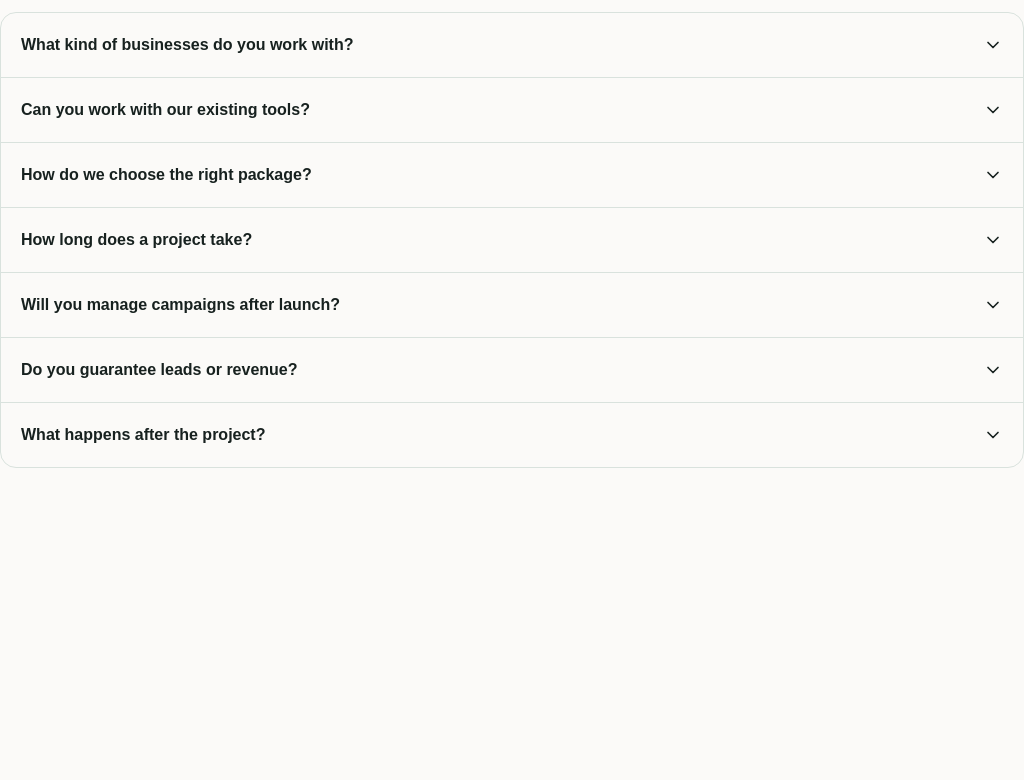
Test: Pricing › FAQ › opens and closes one item at a time with correct ARIA attributes
Click the button "What kind of businesses do you work with?": (187, 44) 21,13 -> 1003,77
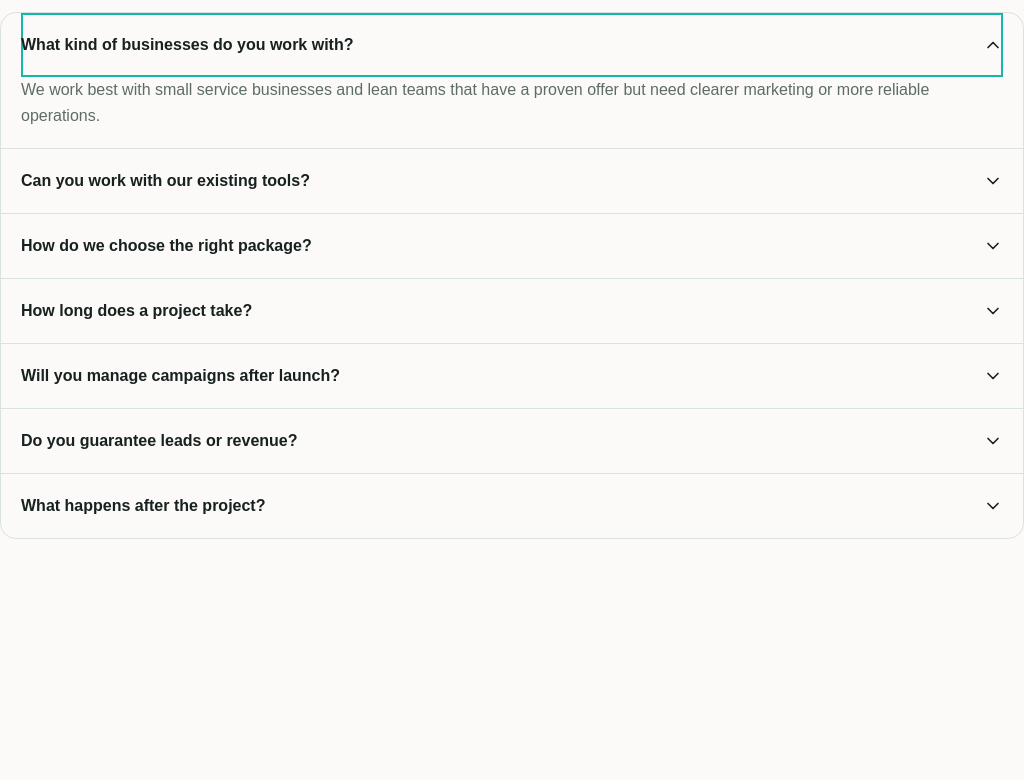
expect the button "What kind of businesses do you work with?" is expanded: met, box 21,13 -> 1003,77
expect the text "We work best with small service businesses and lean teams that have a proven offer but need clearer marketing or more re" is shown: met, box 21,81 -> 929,124
Click the button "Can you work with our existing tools?": (165, 181) 21,149 -> 1003,213
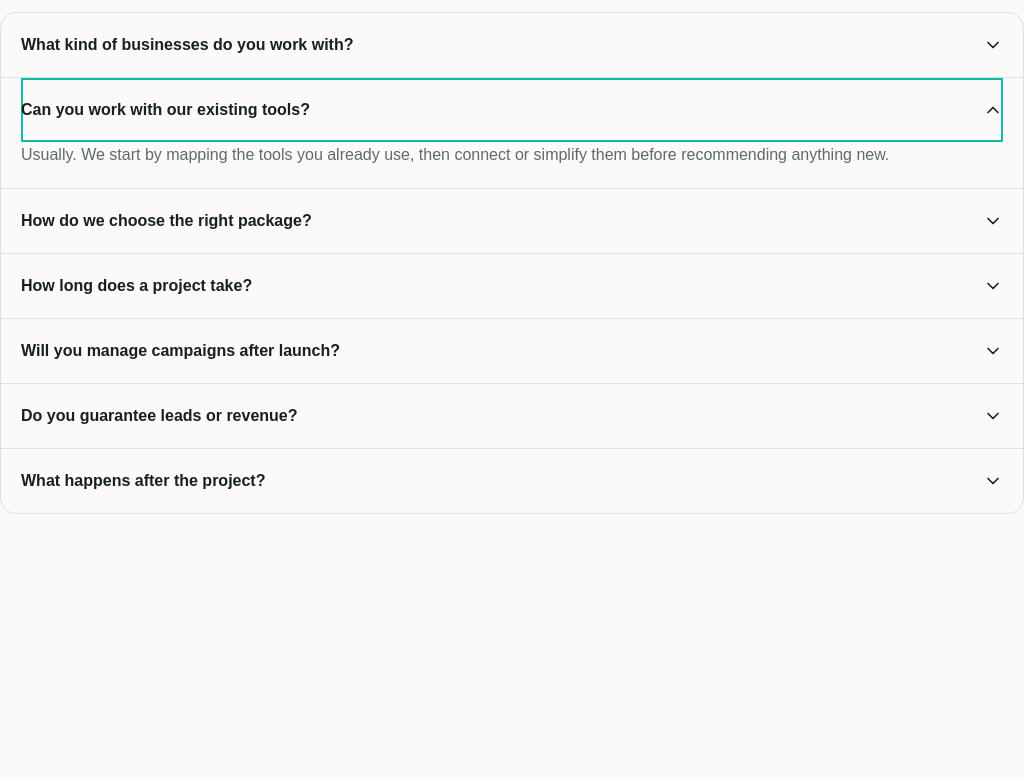
expect the button "What kind of businesses do you work with?" is collapsed: met, box 21,13 -> 1003,77
expect the button "Can you work with our existing tools?" is expanded: met, box 21,78 -> 1003,142
Press Enter
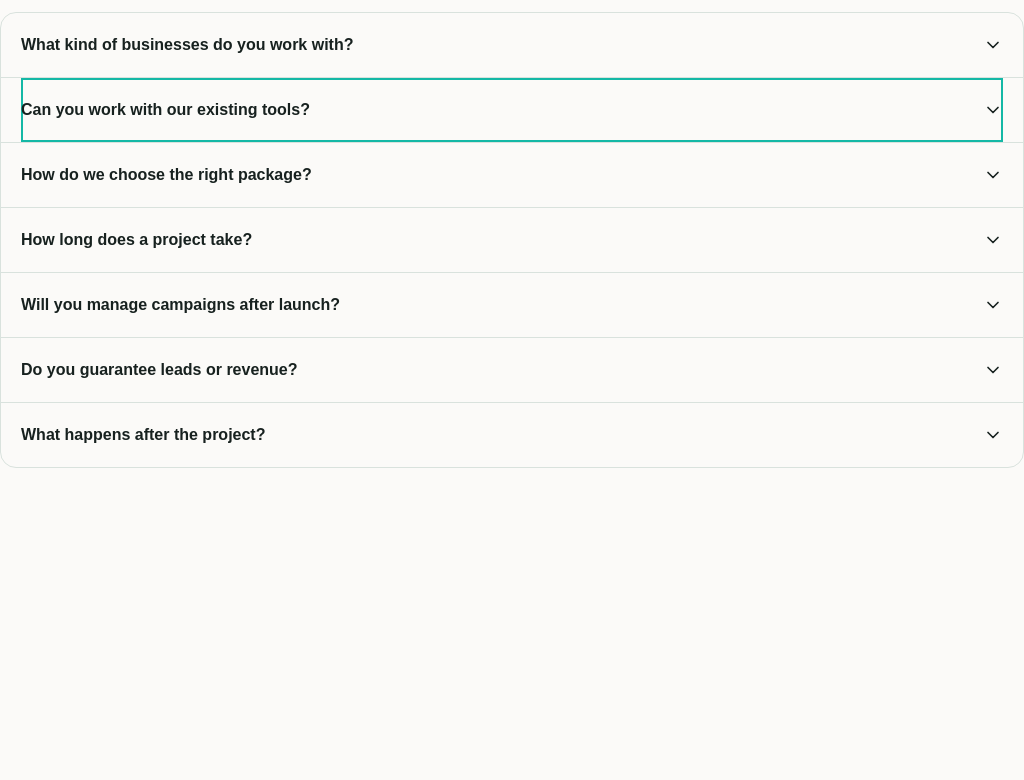
expect the button "Can you work with our existing tools?" is collapsed: met, box 21,78 -> 1003,142
